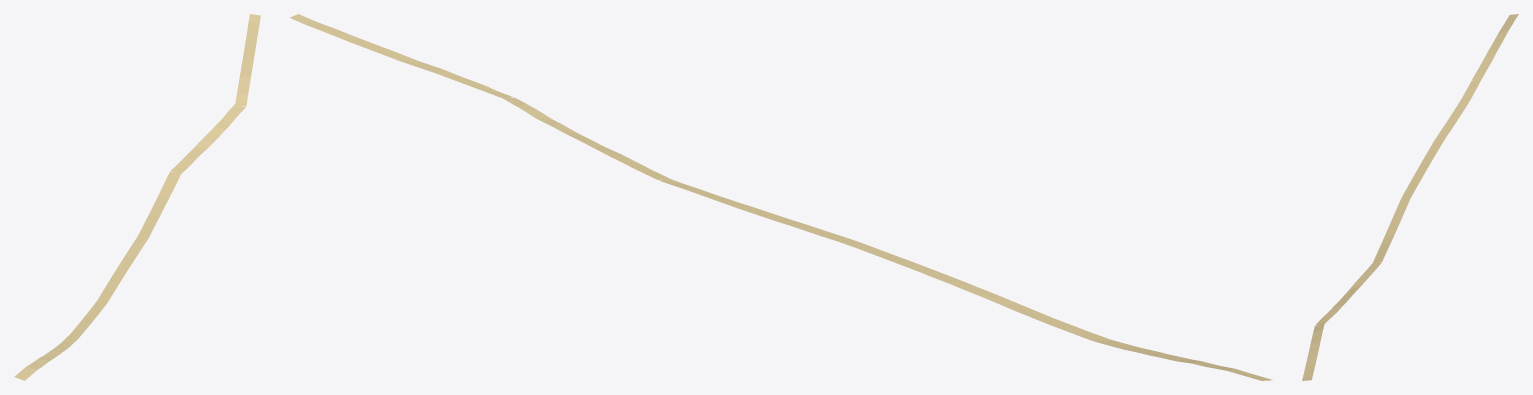
File: Trail_18.glb
The picture shows the model from 3 angles, left to right: view 1: azimuth 90°, elevation 25°; view 2: azimuth 150°, elevation 25°; view 3: azimuth 270°, elevation 25°; orthographic projection. The views are drawn at different scales.
Parts seen in each view (by area): view 1: Trail_18; view 2: Trail_18; view 3: Trail_18.
Part boxes in pixels (x1,y1,x2,y2): Trail_18: [14, 14, 260, 380]; Trail_18: [290, 14, 1272, 380]; Trail_18: [1302, 14, 1518, 380].
Size of the model in its own units: 147 by 7.6 by 39.08.
